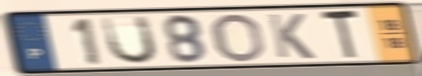1: (69, 17, 102, 66)
8: (162, 13, 208, 65)
K: (265, 12, 317, 61)
O: (211, 12, 268, 64)
T: (318, 8, 362, 62)
U: (99, 14, 160, 67)
